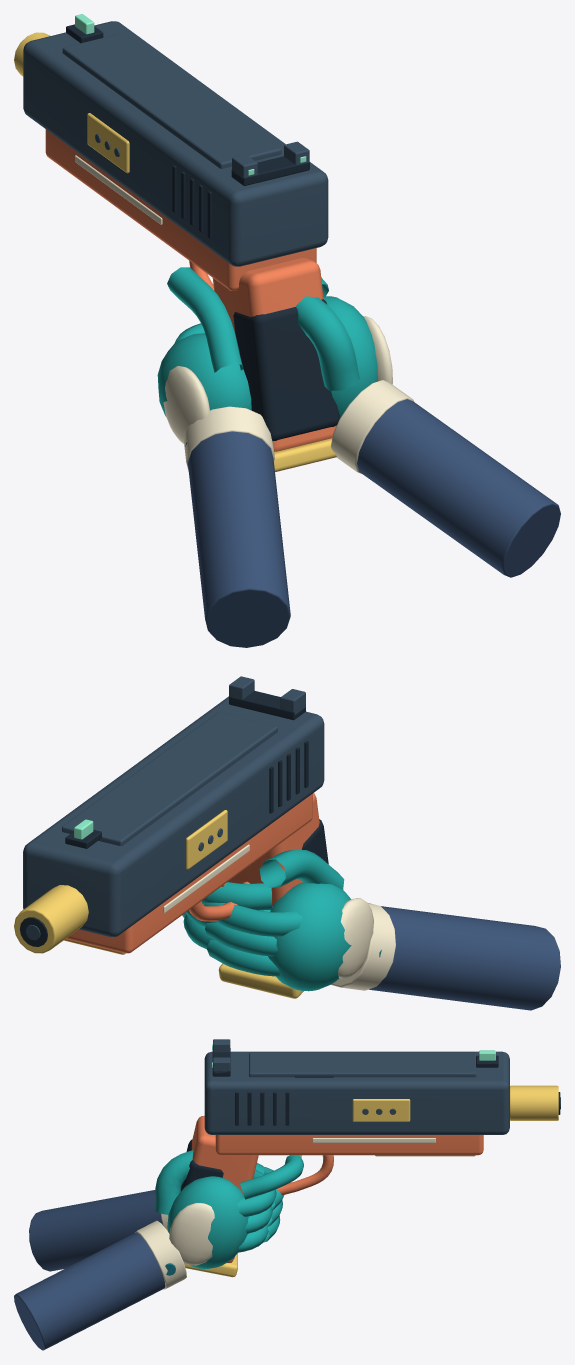
File: pistol_viewmodel.glb
3 renders of one model, top to bottom at view 1: azimuth 30°, elevation 25°; view 2: azimuth 150°, elevation 25°; view 3: azimuth 270°, elevation 25°, orthographic. The views are drawn at different scales.
Parts seen in each view (by area): view 1: SlideBody, RightSleeve, LeftSleeve, SlideTopRidge, GripInset, CoralChassis, GripFrame, LeftGlovePalm, RightThumb, LeftThumb, RightSleeveCuff, RightGlovePalm (+6 smaller); view 2: SlideBody, LeftSleeve, SlideTopRidge, LeftGlovePalm, CoralChassis, BrassBarrel, LeftSleeveCuff, LeftThumb, LeftBackPadding, LeftSupportFinger0, GripFrame, LeftSupportFinger1 (+12 smaller); view 3: SlideBody, RightSleeve, LeftSleeve, SlideTopRidge, CoralChassis, RightGlovePalm, RightBackPadding, GripFrame, BrassBarrel, RightSleeveCuff, RightThumb, RightIndexFinger (+8 smaller).
Boxes of the visible parts, x1,y1,x2,y2 form: SlideBody: [23, 21, 328, 266]; RightSleeve: [357, 399, 560, 577]; LeftSleeve: [188, 431, 290, 647]; SlideTopRidge: [62, 33, 281, 168]; GripInset: [233, 299, 339, 440]; CoralChassis: [45, 129, 316, 290]; GripFrame: [212, 258, 336, 451]; LeftGlovePalm: [157, 333, 251, 416]; RightThumb: [296, 296, 360, 390]; LeftThumb: [167, 267, 243, 372]; RightSleeveCuff: [331, 380, 414, 474]; RightGlovePalm: [323, 296, 377, 418]; SlideBody: [23, 696, 324, 937]; LeftSleeve: [369, 906, 560, 1010]; SlideTopRidge: [62, 712, 277, 845]; LeftGlovePalm: [268, 882, 351, 991]; CoralChassis: [66, 793, 312, 953]; BrassBarrel: [14, 885, 88, 953]; LeftSleeveCuff: [331, 903, 395, 990]; LeftThumb: [259, 849, 344, 889]; LeftBackPadding: [338, 898, 373, 978]; LeftSupportFinger0: [204, 902, 302, 936]; GripFrame: [228, 793, 319, 906]; LeftSupportFinger1: [205, 922, 277, 956]; SlideBody: [204, 1051, 509, 1134]; RightSleeve: [14, 1232, 165, 1350]; LeftSleeve: [29, 1190, 163, 1271]; SlideTopRidge: [249, 1052, 476, 1077]; CoralChassis: [215, 1135, 483, 1155]; RightGlovePalm: [167, 1176, 248, 1269]; RightBackPadding: [169, 1202, 214, 1265]; GripFrame: [192, 1115, 258, 1262]; BrassBarrel: [510, 1085, 558, 1120]; RightSleeveCuff: [135, 1220, 186, 1289]; RightThumb: [155, 1150, 193, 1214]; RightIndexFinger: [239, 1155, 303, 1199].
Bounding box in the file's own units: 0.5127 × 0.5375 × 0.9961.
